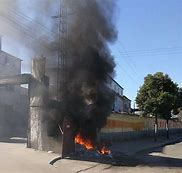smoke: (39, 1, 115, 132)
